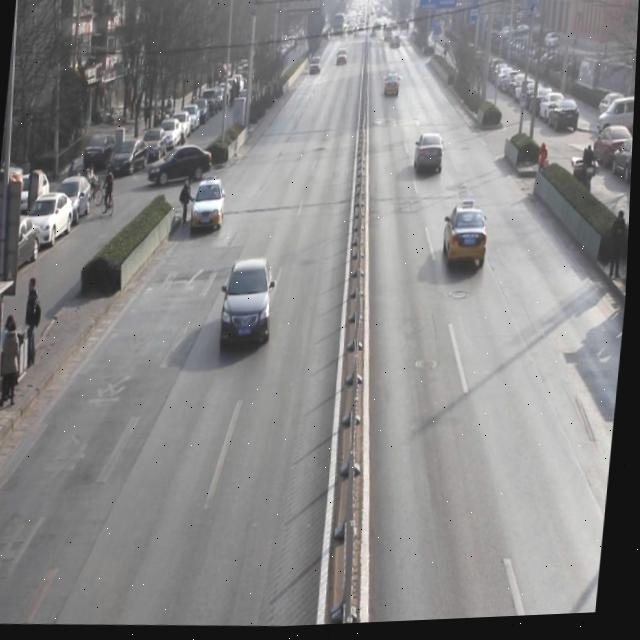car: (217, 256, 280, 357), (441, 205, 496, 274), (191, 179, 229, 239), (411, 135, 450, 182)
